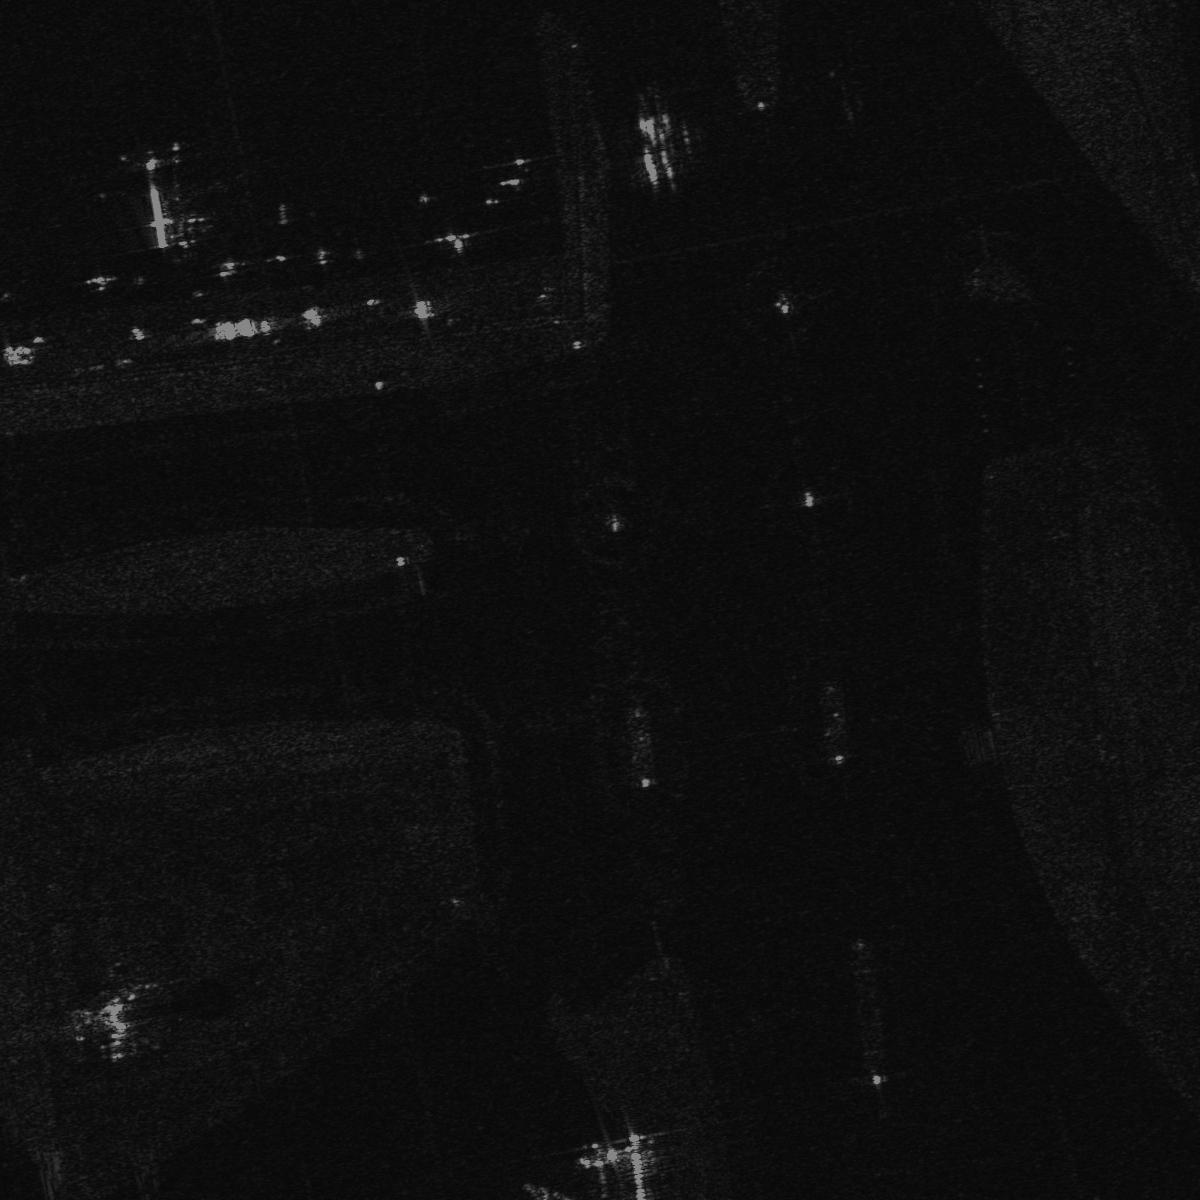Boeing787: (85, 146, 238, 258)
